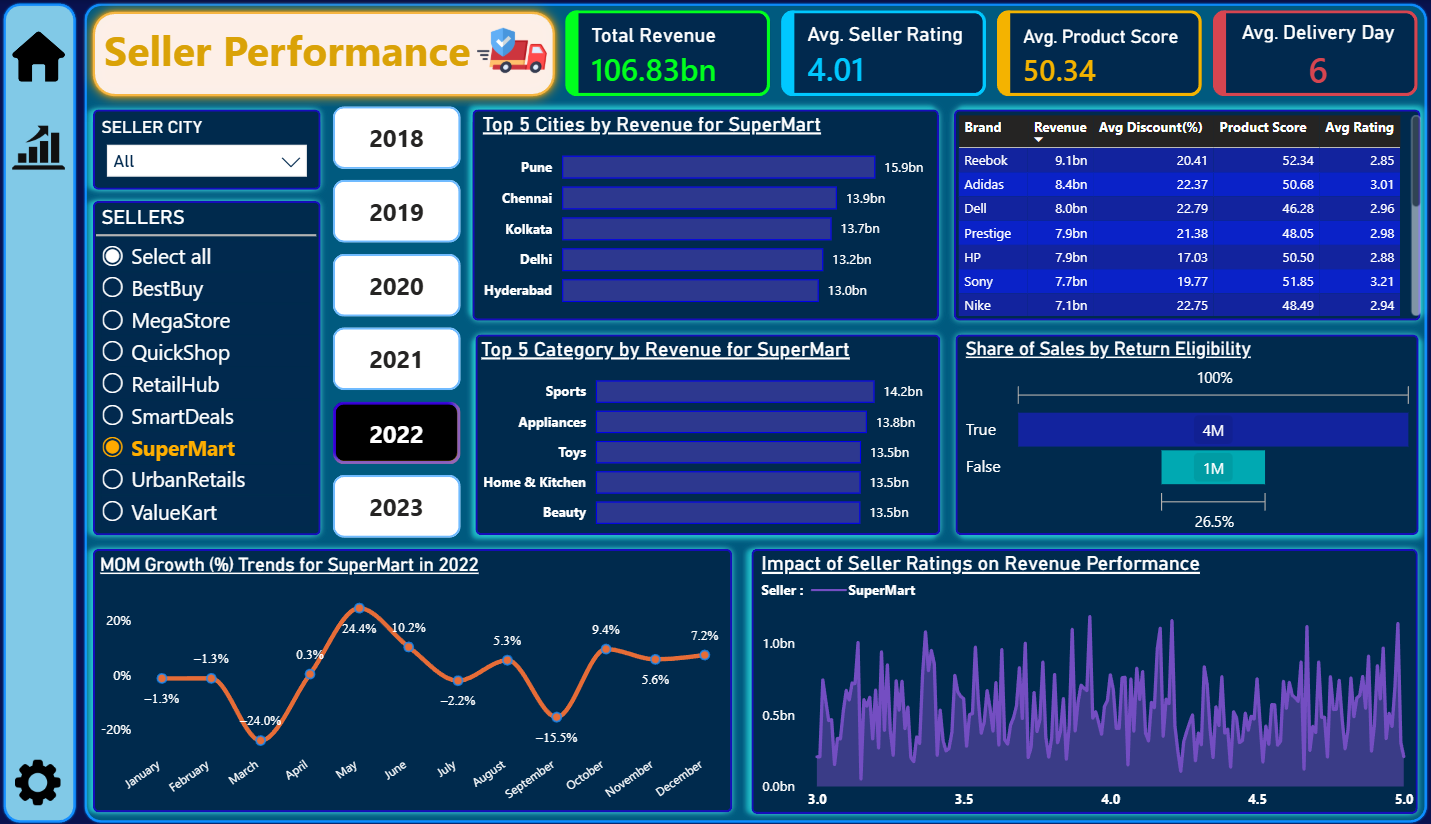

What the dashboard file says about the page in this screenshot:
{"tool":"powerbi","page":{"name":"Seller performance","canvas":[1300,750],"ordinal":1},"visuals":[{"type":"shape","box":[75.4,1.5,1222.6,747.4],"z":0},{"type":"shape","box":[859.7,295.3,436.8,198.4],"z":1000},{"type":"shape","box":[858.1,90.7,439.8,208],"z":2000},{"type":"shape","box":[421.4,90.7,439.8,208],"z":3000},{"type":"shape","box":[673.6,490.6,621.3,256.8],"z":4000},{"type":"shape","box":[76.9,490.6,596.7,255.3],"z":5000},{"type":"lineChart","fields":{"Y":["Measure Table.MOM"],"Category":["public flipkart.listing_date.Variation.Date Hierarchy.Month"]},"box":[86.1,502.9,576.7,235.3],"z":6000},{"type":"shape","box":[75.4,1.5,438.3,95.3],"z":7000},{"type":"textbox","box":[76.9,3.1,361.4,81.5],"z":8000},{"type":"shape","box":[1.5,1.5,69.2,747.4],"z":9000},{"type":"image","box":[6.2,86.1,55.4,100],"z":10000},{"type":"image","box":[7.7,6.2,60,92.3],"z":11000},{"type":"shape","box":[76.9,90.7,223,89.2],"z":12000},{"type":"slicer","title":"SELLER CITY","fields":{"Values":["public flipkart.seller_city"]},"box":[87.7,106.1,201.5,69.2],"z":13000},{"type":"image","box":[13.8,689,41.5,43.1],"z":14000},{"type":"shape","box":[76.9,173.8,223,319.9],"z":15000},{"type":"listSlicer","title":"SELLERS","fields":{"Values":["public flipkart.seller"]},"box":[87.7,186.1,199.9,301.4],"z":16000},{"type":"cardVisual","fields":{"Data":["Measure Table.Revenues","Avg(public flipkart.seller_rating)","Avg(public flipkart.product_score)","Avg(public flipkart.delivery_days)"]},"box":[504.4,0,795.1,96.9],"z":17000},{"type":"advancedSlicerVisual","fields":{"Values":["public flipkart.listing_date.Variation.Date Hierarchy.Year"]},"box":[296.8,90.7,126.1,402.9],"z":18000},{"type":"barChart","fields":{"Category":["public flipkart.seller_city"],"Y":["Measure Table.Revenues"]},"box":[433.7,101.5,413.7,189.2],"z":19000},{"type":"shape","box":[422.9,295.3,438.3,198.4],"z":20000},{"type":"barChart","fields":{"Category":["public flipkart.category"],"Y":["Measure Table.Revenues"]},"box":[432.1,306,418.3,186.1],"z":21000},{"type":"image","box":[433.7,3.1,63.1,86.1],"z":22000},{"type":"funnel","title":"Share of Sales by Return Eligibility","fields":{"Category":["public flipkart.is_returnable"],"Y":["Sum(public flipkart.units_sold)"]},"box":[872,306,416.8,181.5],"z":23000},{"type":"tableEx","fields":{"Values":["public flipkart.brand","Sum(public flipkart.Total_revenue)","Avg(public flipkart.discount_percent)","Avg(public flipkart.product_score)","Avg(public flipkart.rating)"]},"box":[864.3,100,430.6,192.2],"z":24000},{"type":"areaChart","title":"Impact of Seller Ratings on Revenue Performance","fields":{"Category":["public flipkart.seller_rating"],"Y":["Measure Table.Revenues"],"Series":["public flipkart.seller"]},"box":[685.9,501.3,602.8,243],"z":25000}]}

Visuals, with their boxes on the page's 1300x750 design canvas (x1, y1, x2, y2). These are canvas units, not pixel positions in the 1431x824 screenshot, which may show the page scaled, cropped or inside an application window:
shape: (left=75, top=2, right=1298, bottom=749)
shape: (left=860, top=295, right=1296, bottom=494)
shape: (left=858, top=91, right=1298, bottom=299)
shape: (left=421, top=91, right=861, bottom=299)
shape: (left=674, top=491, right=1295, bottom=747)
shape: (left=77, top=491, right=674, bottom=746)
lineChart - Measure Table.MOM x public flipkart.listing_date.Variation.Date Hierarchy.Month: (left=86, top=503, right=663, bottom=738)
shape: (left=75, top=2, right=514, bottom=97)
textbox: (left=77, top=3, right=438, bottom=85)
shape: (left=2, top=2, right=71, bottom=749)
image: (left=6, top=86, right=62, bottom=186)
image: (left=8, top=6, right=68, bottom=98)
shape: (left=77, top=91, right=300, bottom=180)
"SELLER CITY" slicer: (left=88, top=106, right=289, bottom=175)
image: (left=14, top=689, right=55, bottom=732)
shape: (left=77, top=174, right=300, bottom=494)
"SELLERS" listSlicer: (left=88, top=186, right=288, bottom=488)
cardVisual - Measure Table.Revenues x Avg(public flipkart.seller_rating): (left=504, top=0, right=1300, bottom=97)
advancedSlicerVisual - public flipkart.listing_date.Variation.Date Hierarchy.Year: (left=297, top=91, right=423, bottom=494)
barChart - public flipkart.seller_city x Measure Table.Revenues: (left=434, top=102, right=847, bottom=291)
shape: (left=423, top=295, right=861, bottom=494)
barChart - public flipkart.category x Measure Table.Revenues: (left=432, top=306, right=850, bottom=492)
image: (left=434, top=3, right=497, bottom=89)
"Share of Sales by Return Eligibility" funnel: (left=872, top=306, right=1289, bottom=488)
tableEx - public flipkart.brand x Sum(public flipkart.Total_revenue): (left=864, top=100, right=1295, bottom=292)
"Impact of Seller Ratings on Revenue Performance" areaChart: (left=686, top=501, right=1289, bottom=744)
